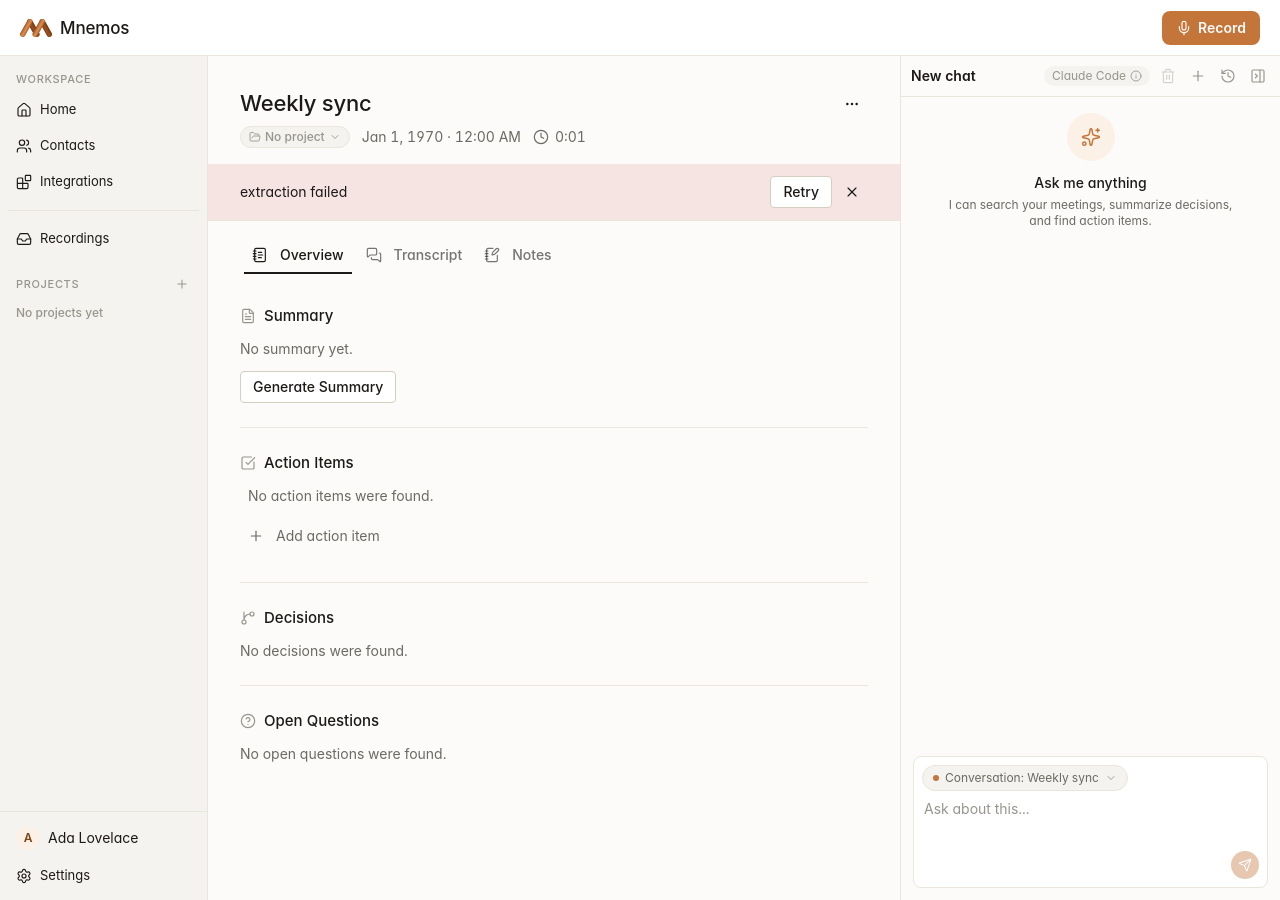
Test: /_app/conversation/$conversationId route › clears the failed banner once a retry actually succeeds
expect the text "extraction failed" is shown: met, box [240,182,347,202]
Click the button "Retry" at (801, 192), box [770,176,832,208]
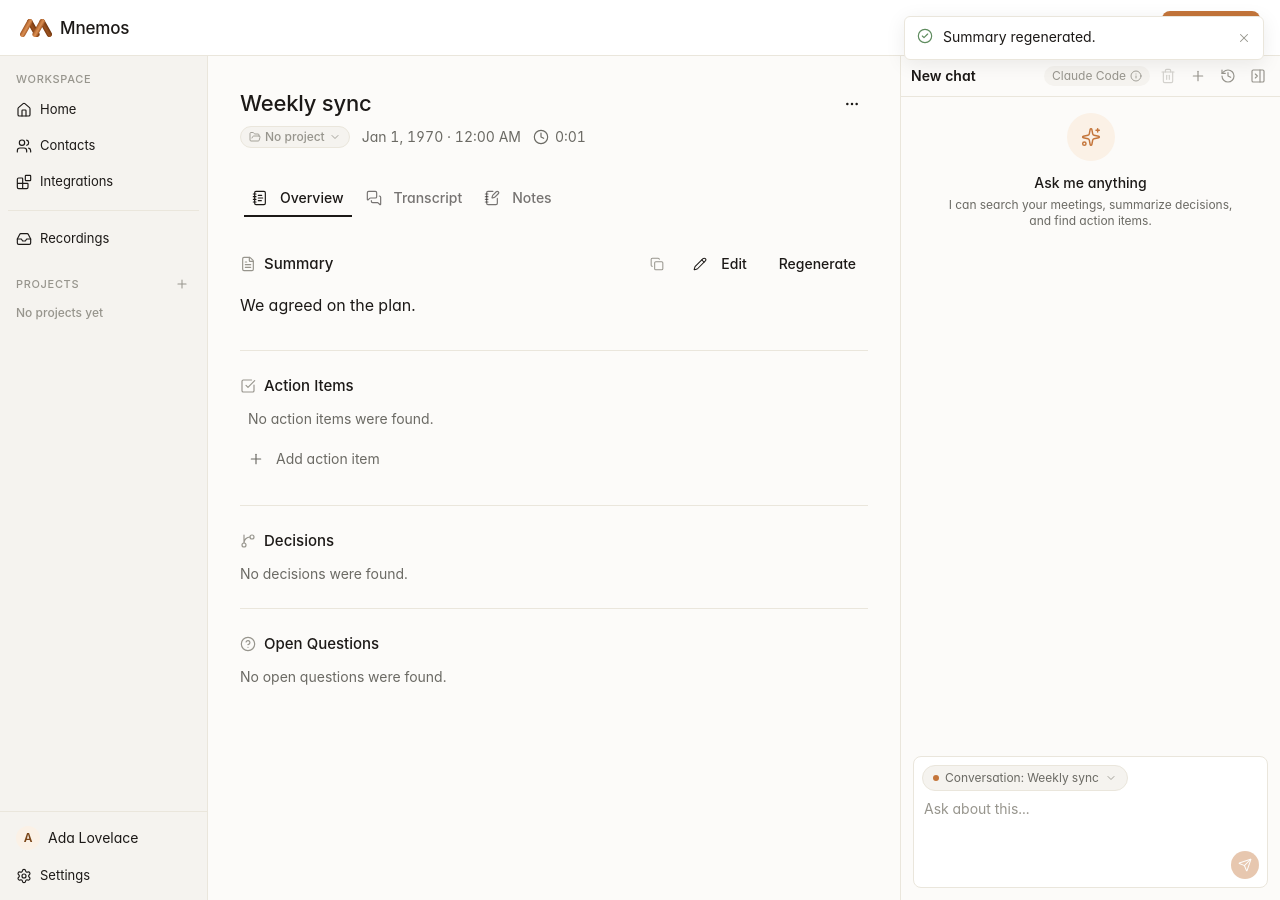
expect the text "We agreed on the plan." is shown: met, box [240,295,416,315]
expect the text "extraction failed" is gone: met
